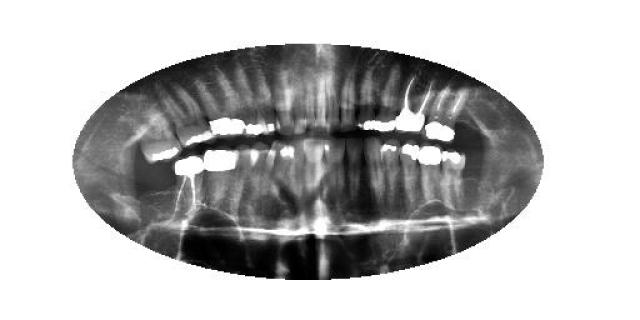Fillings: (158, 78, 212, 148), (195, 71, 245, 139), (130, 109, 182, 166), (200, 145, 238, 214), (428, 86, 468, 142), (236, 62, 265, 138), (440, 145, 466, 213), (355, 66, 379, 134), (376, 66, 399, 135), (420, 142, 441, 202), (399, 141, 419, 200), (382, 138, 400, 202)
Implant: (396, 72, 430, 138), (173, 152, 205, 218)
